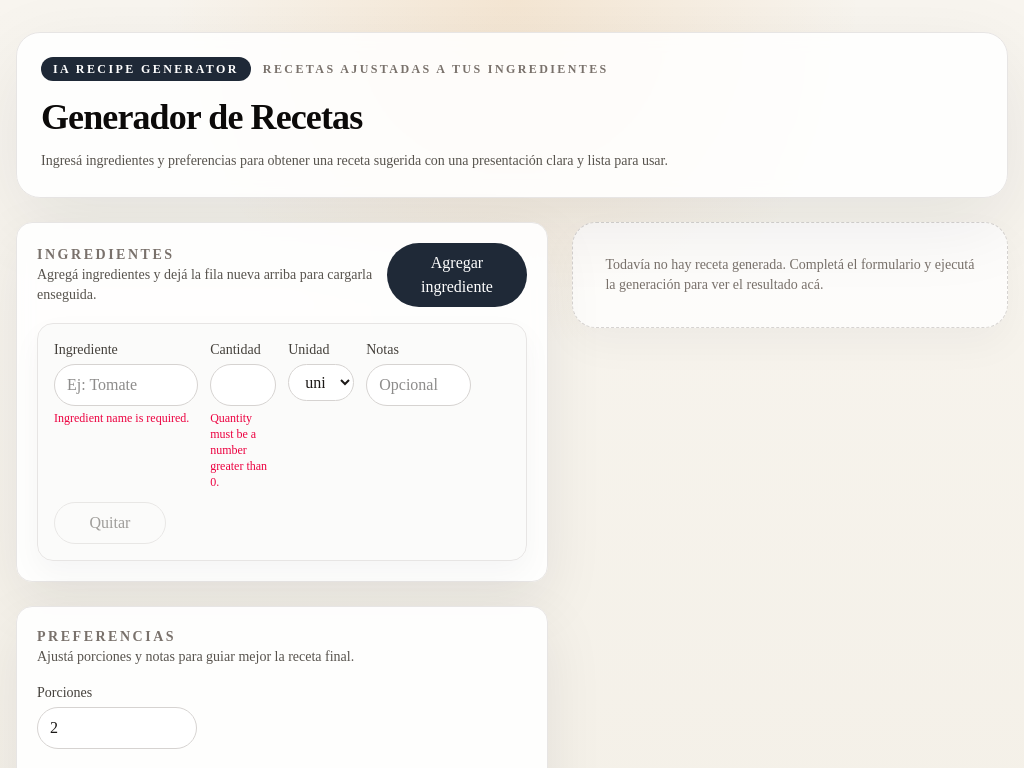
Test: RecipeGeneratorPage › allows a new submit after the previous request completes
Type " Tomate " into the field with placeholder "Ej: Tomate".
click(126, 385); type(" Tomate ")  # box [54,364,198,406]
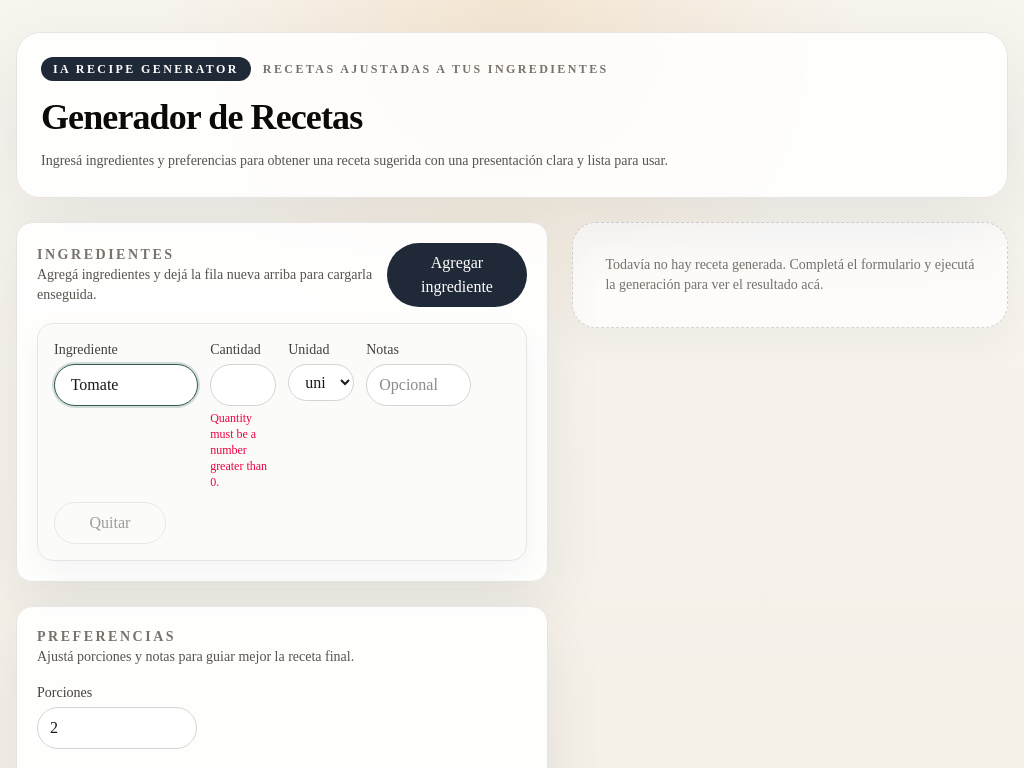
Type "2" into the number field labelled "Cantidad".
click(243, 385); type("2")  # box [210,364,276,406]
(page scrolled)
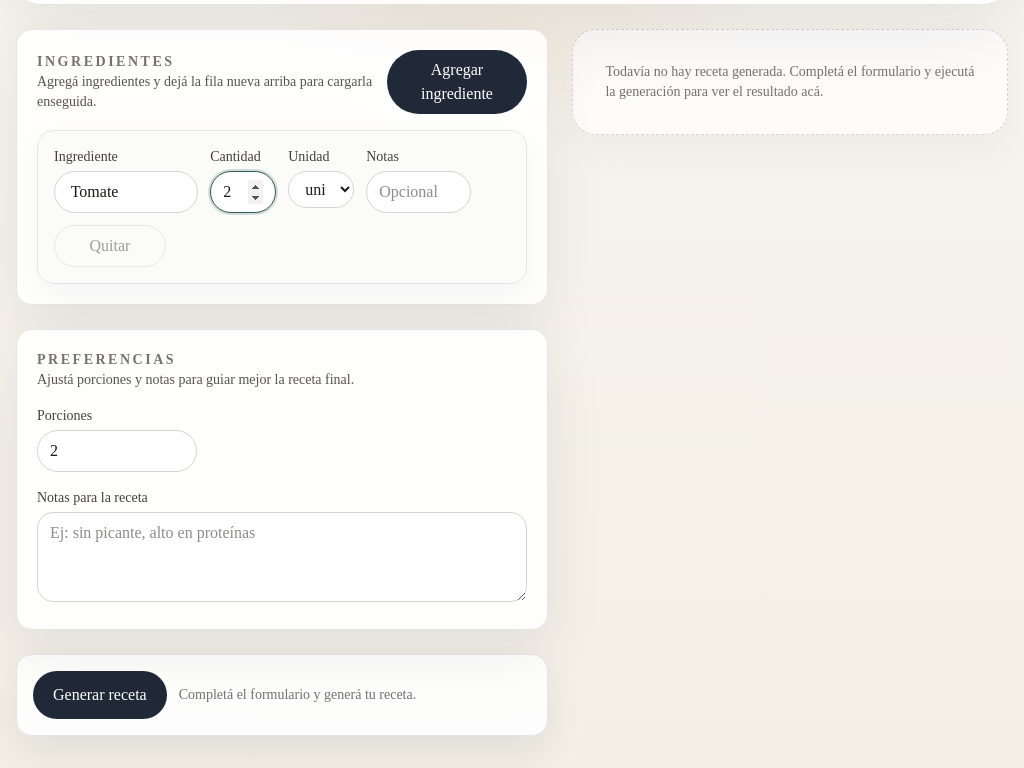
Click the button "Generar receta".
click(100, 695)  # box [33,671,167,719]
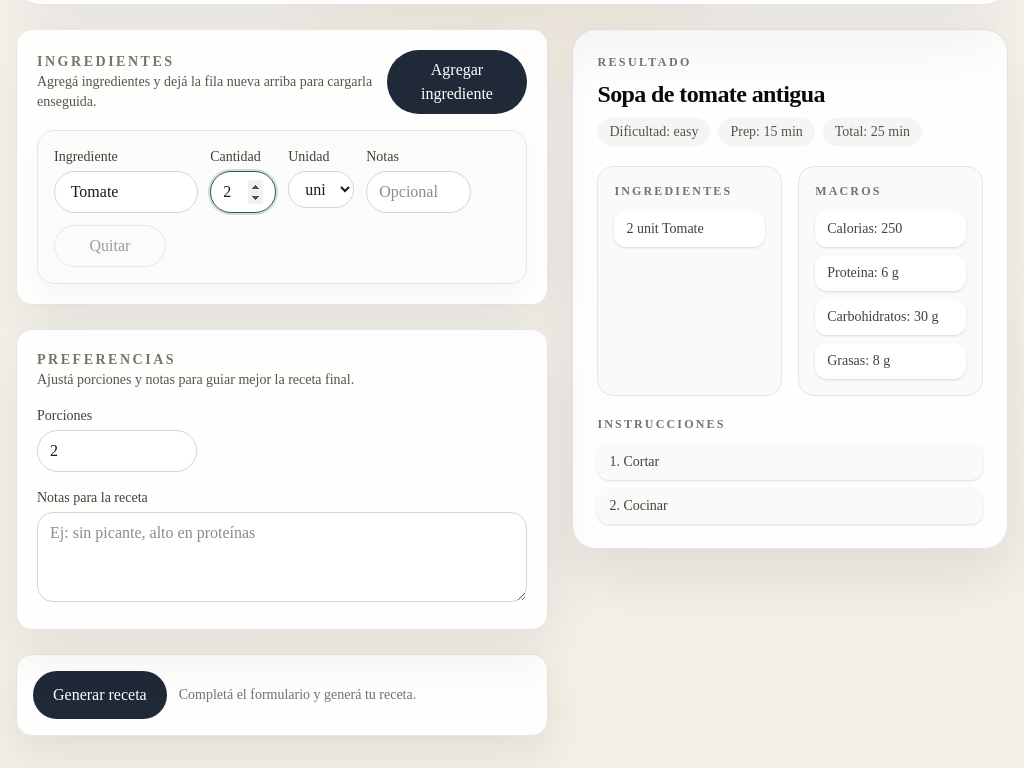
expect the heading "Sopa de tomate antigua" is shown: met, box [597,81,825,107]
Click the button "Generar receta".
click(100, 695)  # box [33,671,167,719]
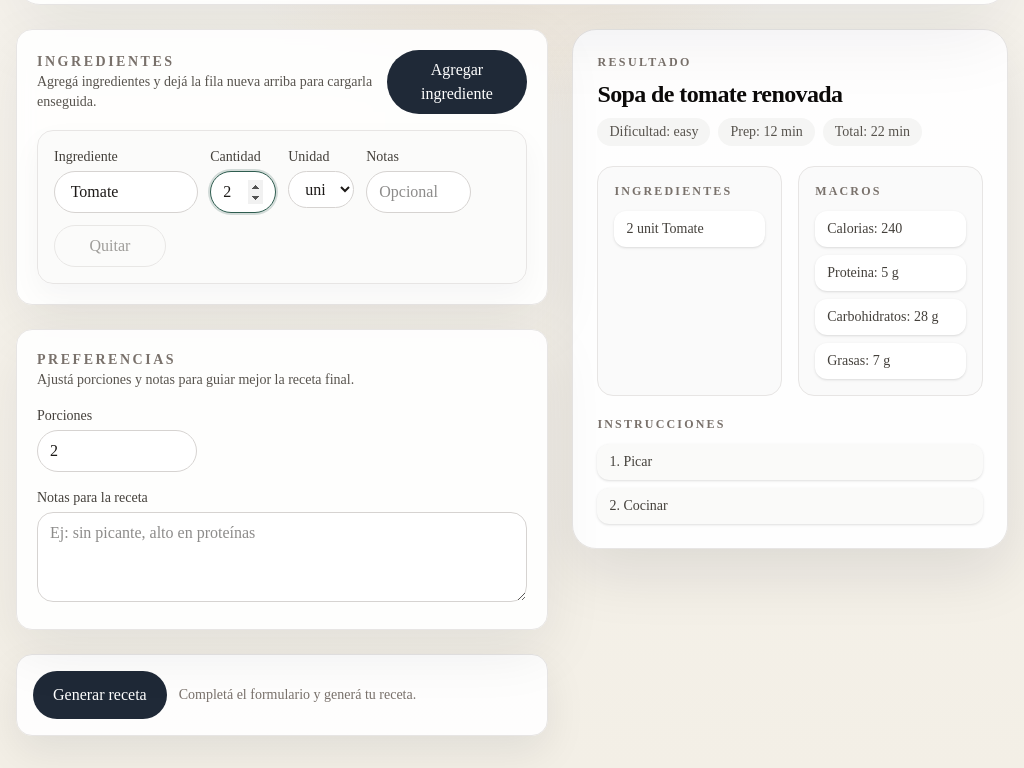
expect the heading "Sopa de tomate renovada" is shown: met, box [597,81,842,107]
